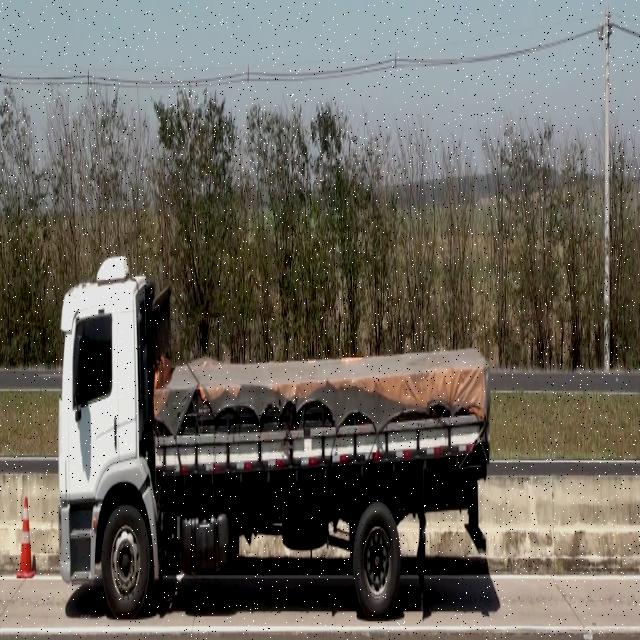-axle: (352, 501, 400, 615), (101, 509, 146, 616)
